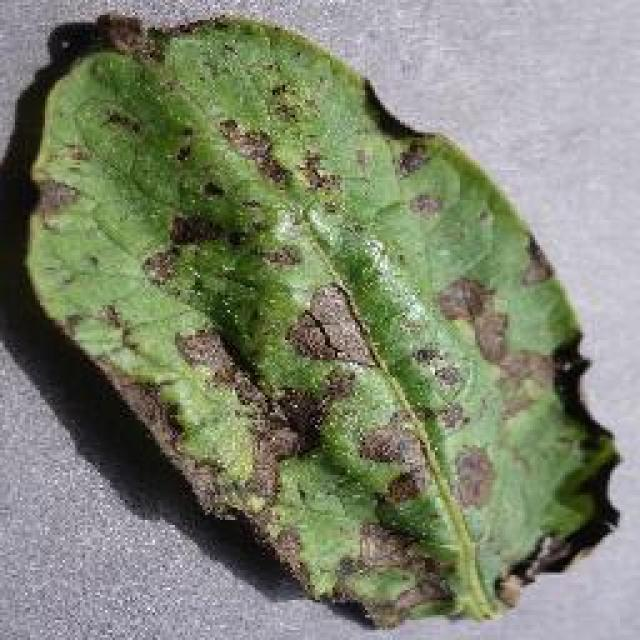early_blight: (18, 10, 622, 632)
